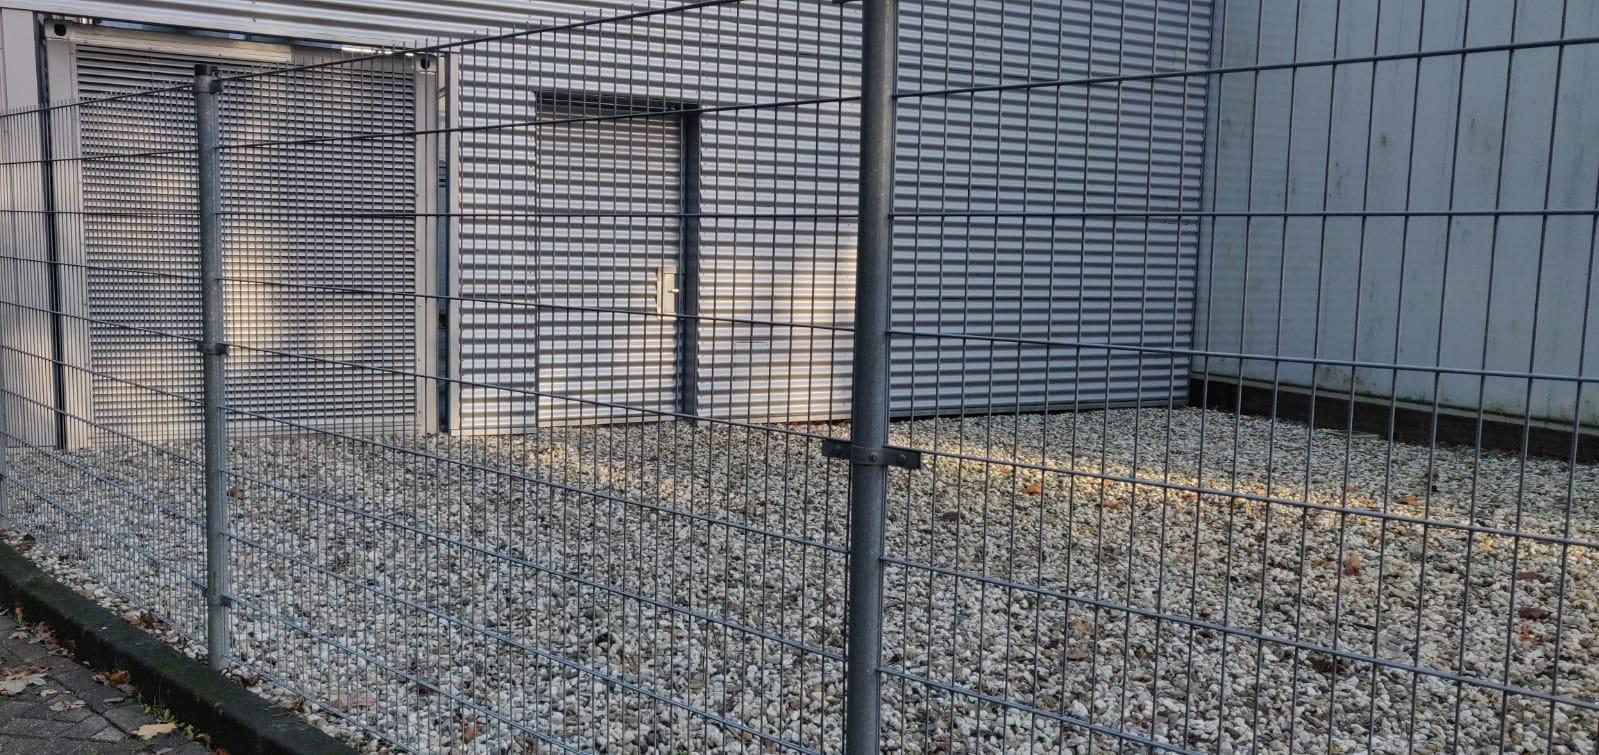obstacle: (215, 71, 1375, 750)
